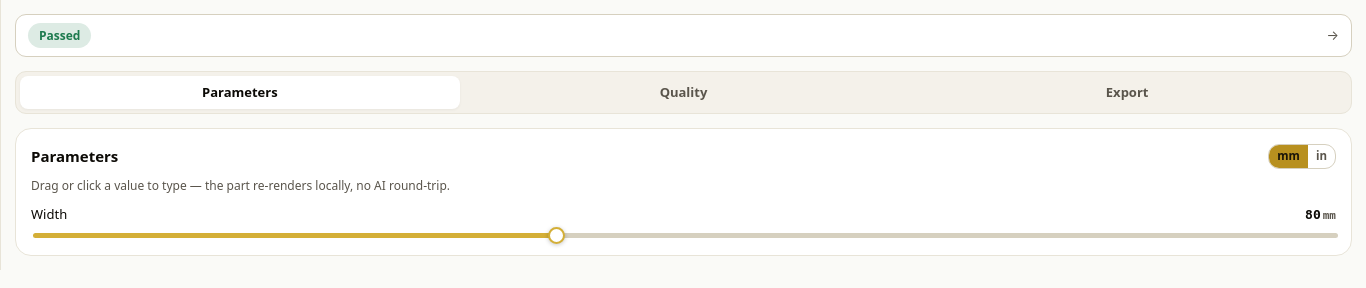
it: RightPanel live sliders › Escape cancels the numeric input without committing (Slice 3)
Click the button with aria-label "Width: 80 mm". click: (1321,214)
box: [1301, 206, 1340, 223]
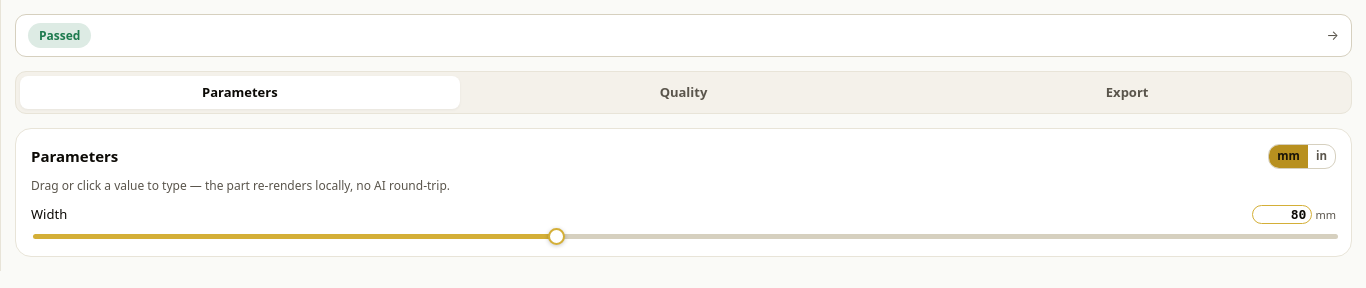
Replace the text in the number field named "Width value" with "999". click: (1282,214)
box: [1252, 205, 1312, 224]
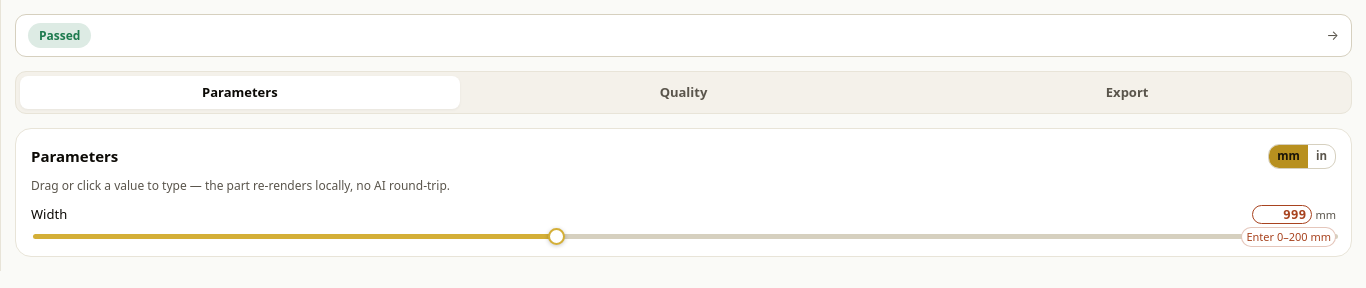
Press Escape in the number field named "Width value", box [1252, 205, 1312, 224]
Wait 200 ms
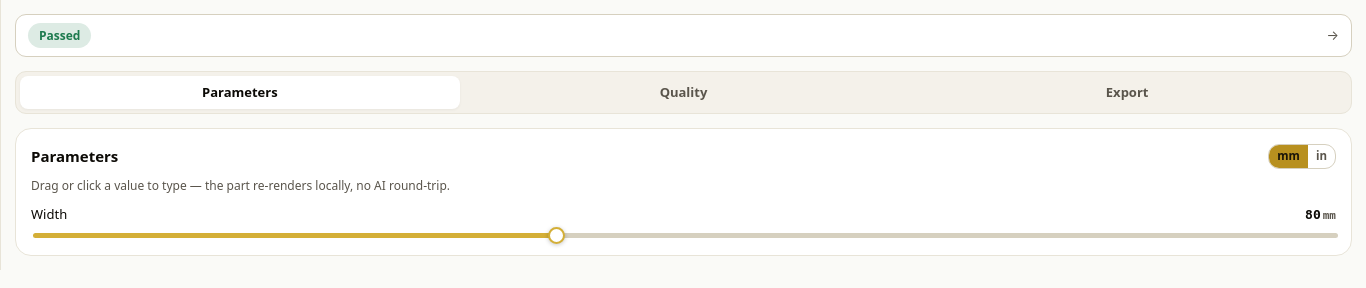
Check: the button with aria-label "Width: 80 mm" is shown, box [1301, 206, 1340, 223]
